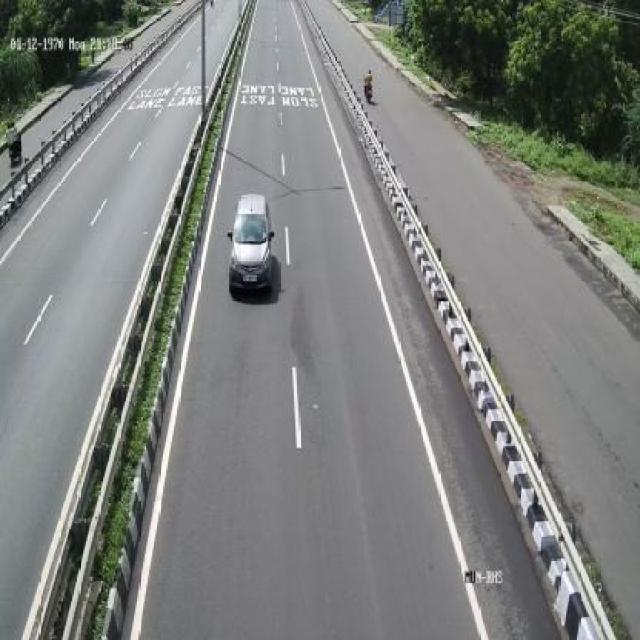car: (230, 188, 278, 300)
